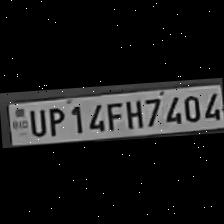0: (178, 90, 201, 121)
1: (64, 102, 85, 134)
4: (81, 100, 105, 132), (159, 92, 181, 124), (199, 88, 220, 120)
7: (140, 93, 160, 126)
F: (103, 98, 123, 130)
H: (121, 95, 143, 128)
P: (44, 102, 66, 136)
U: (24, 105, 46, 136)
